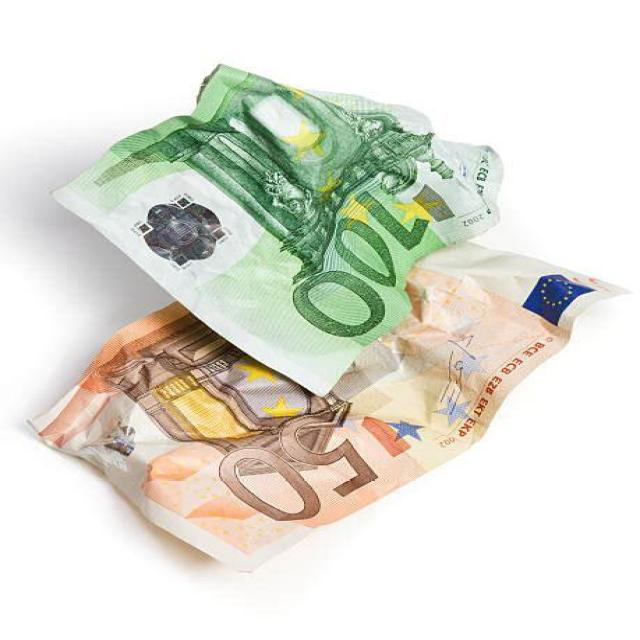banknote: (16, 225, 640, 572), (51, 41, 503, 399), (190, 409, 406, 534), (277, 178, 433, 331)
